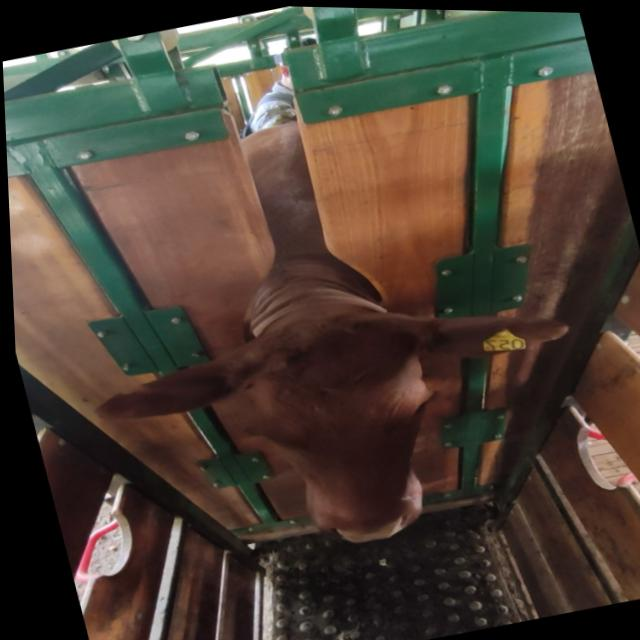cowFace: (224, 296, 465, 560)
